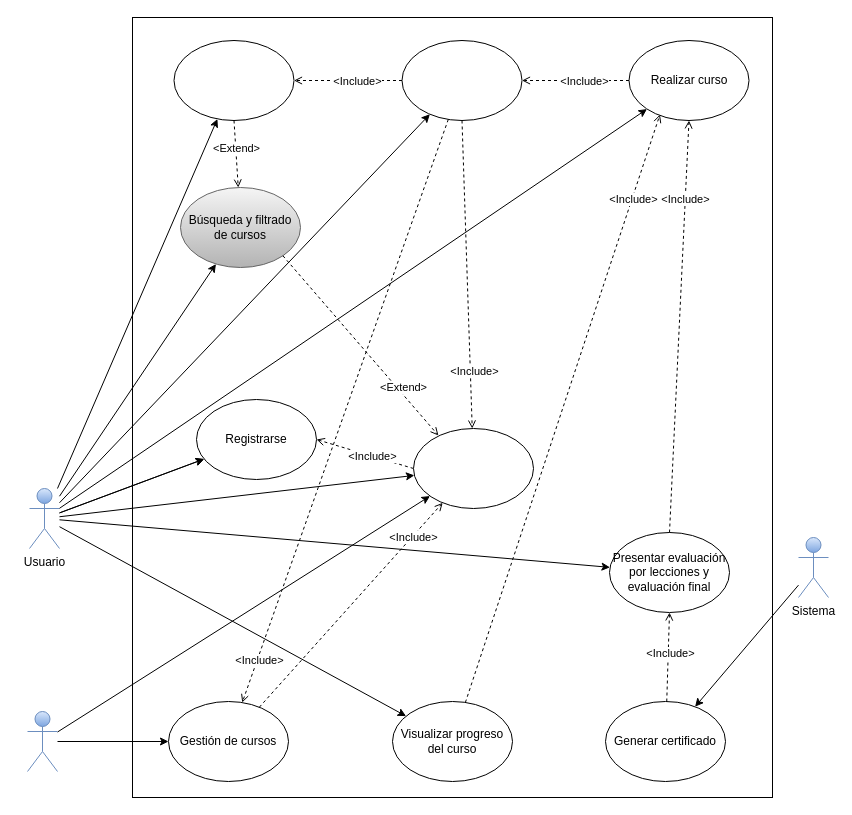
The diagram is 852 pixels wide and 815 high, and some of its shapes have lost their labels. The centre of each missing label's shape, as x and y in pixels:
Iniciar sesión: point (473, 468)
Inscribirse al curso: point (461, 80)
Instructor: point (42, 741)
Previsualizar curso (Ver detalle del curso): point (233, 80)
